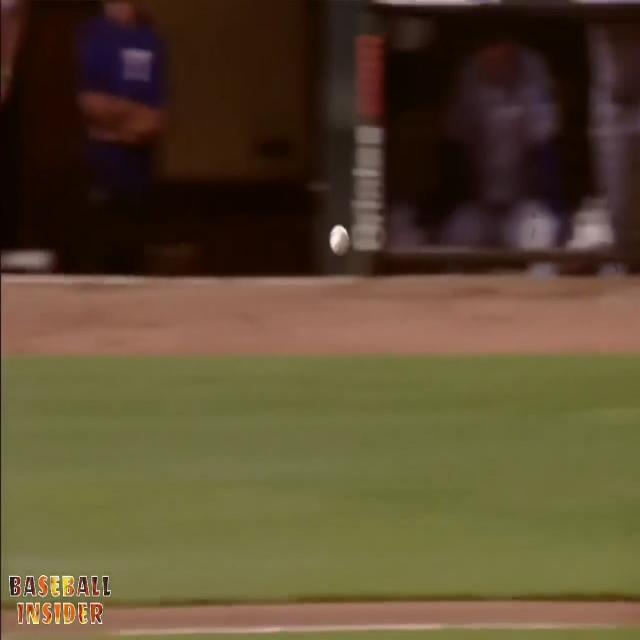baseball: (330, 224, 349, 255)
